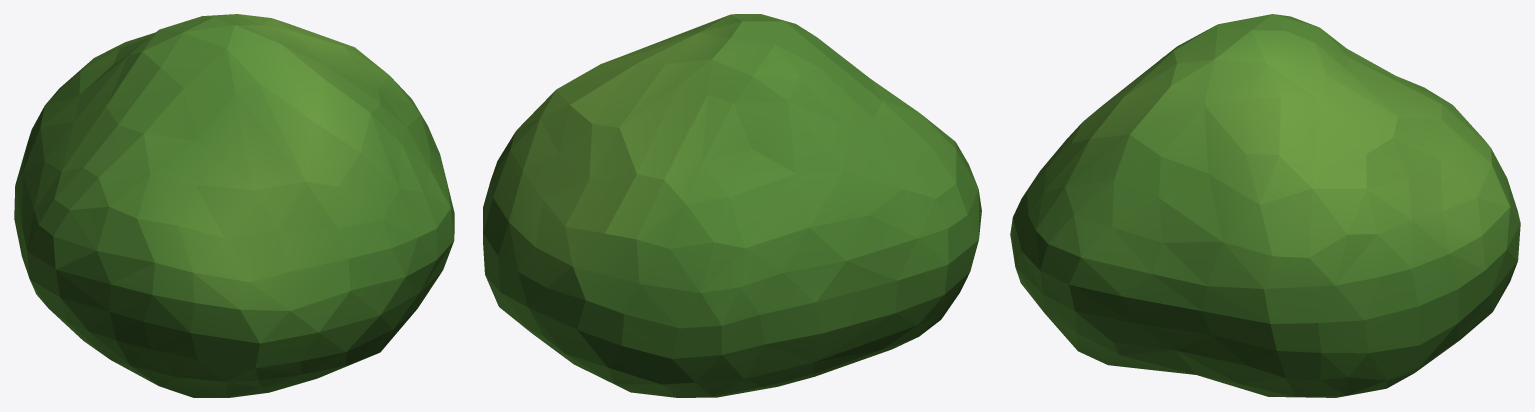
The model's file is bush.glb.
3 views of the same model, side by side, from view 1: azimuth 30°, elevation 25°; view 2: azimuth 150°, elevation 25°; view 3: azimuth 270°, elevation 25° (orthographic). The views are drawn at different scales.
Visible parts, largest first — view 1: Bush; view 2: Bush; view 3: Bush.
Part boxes in pixels (x1,y1,x2,y2): Bush: [14, 14, 454, 397]; Bush: [483, 14, 981, 397]; Bush: [1010, 14, 1520, 397].
Size of the model in its own units: 1.57 by 1.17 by 1.65.
